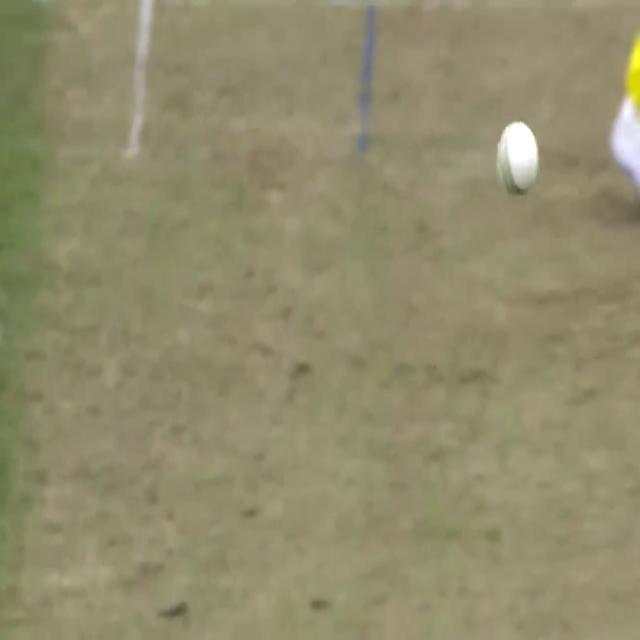ball: (484, 100, 556, 212)
